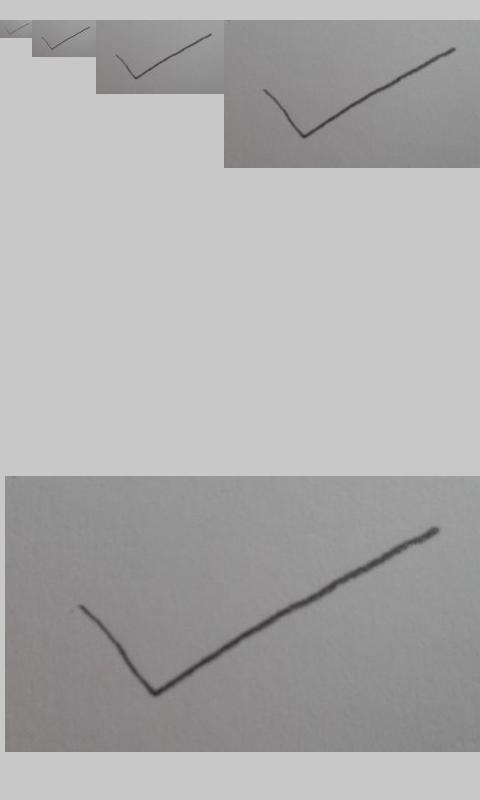check_box: (74, 526, 437, 698), (263, 47, 456, 139), (114, 33, 212, 80), (41, 26, 89, 50), (5, 23, 29, 35)
